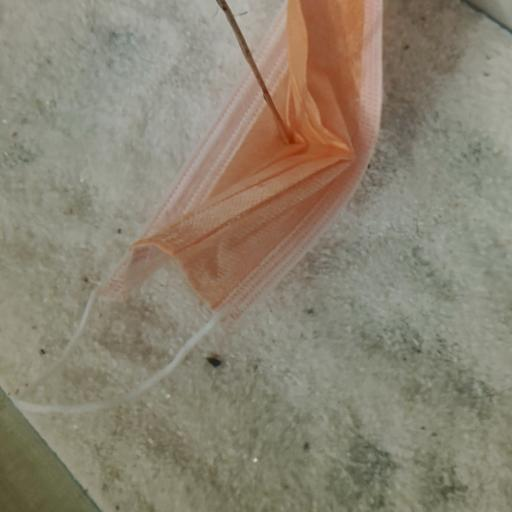mask: (19, 2, 392, 408)
